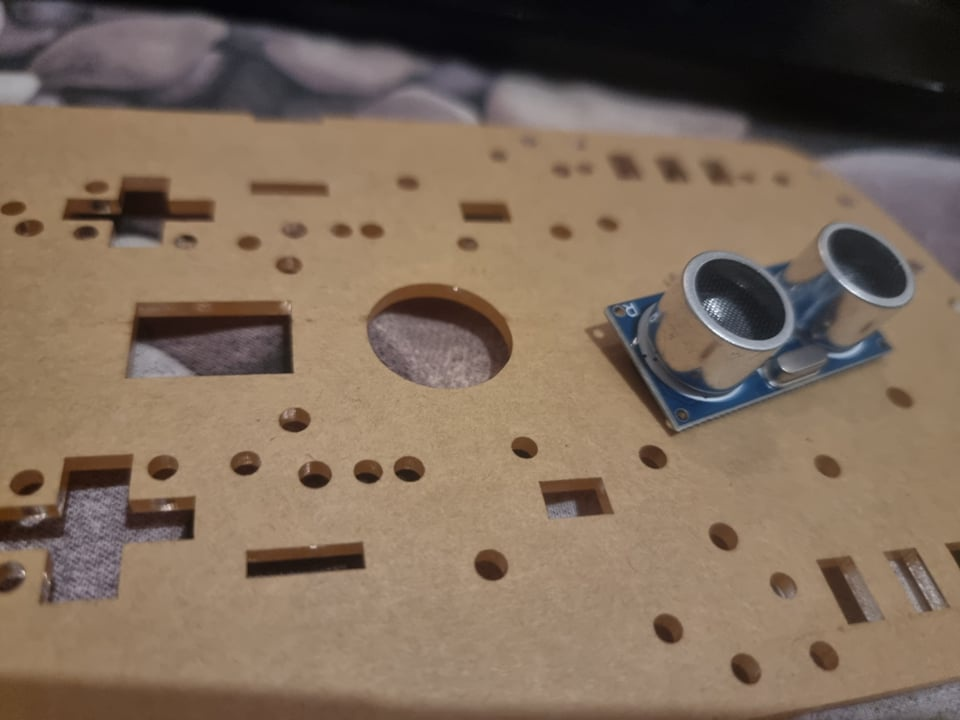SENSOR: (603, 222, 915, 425)
